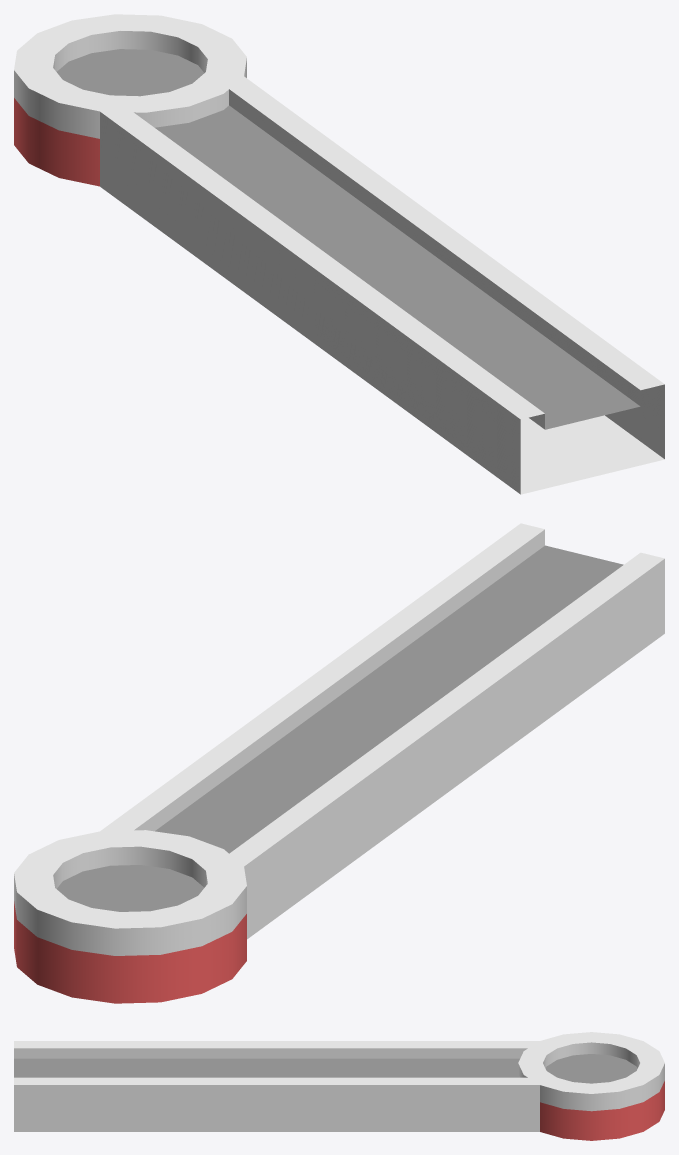
Rendered from rd_switch.fbx.
The picture shows the model from 3 angles, top to bottom: view 1: azimuth 30°, elevation 25°; view 2: azimuth 150°, elevation 25°; view 3: azimuth 270°, elevation 25°; orthographic projection. The views are drawn at different scales.
Visible parts, largest first — view 1: Circle.001; view 2: Circle.001; view 3: Circle.001.
Boxes of the visible parts, left/top/right/bottom form: Circle.001: left=14, top=14, right=664, bottom=494; Circle.001: left=14, top=523, right=664, bottom=1003; Circle.001: left=14, top=1032, right=664, bottom=1140.
Bounding box in the file's own units: 344 × 121 × 1527.
